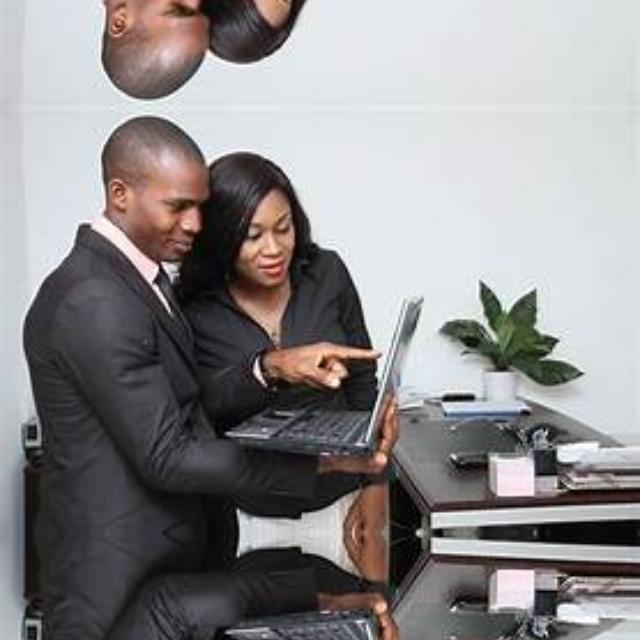person: (57, 116, 217, 482), (208, 153, 360, 387), (57, 0, 217, 97), (208, 0, 360, 61), (57, 584, 217, 640)
